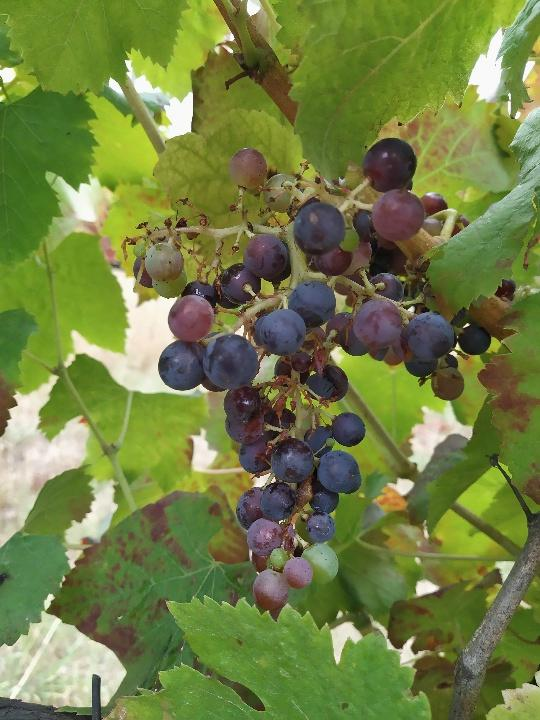grape: (120, 136, 522, 611)
